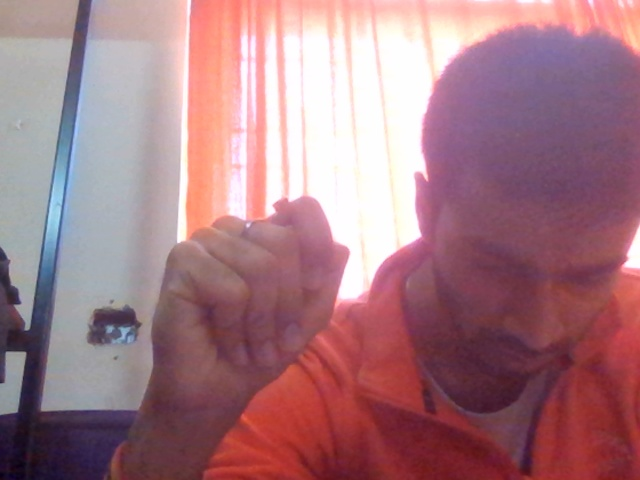T: (113, 166, 385, 480)
